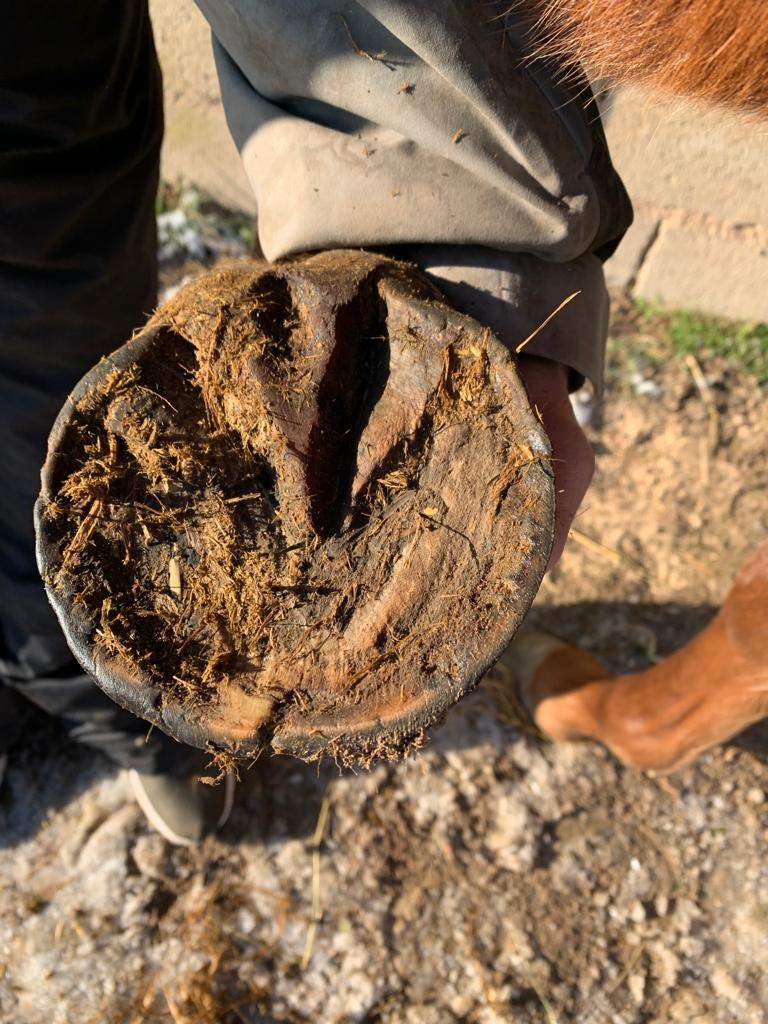horsesole: (34, 279, 555, 753)
